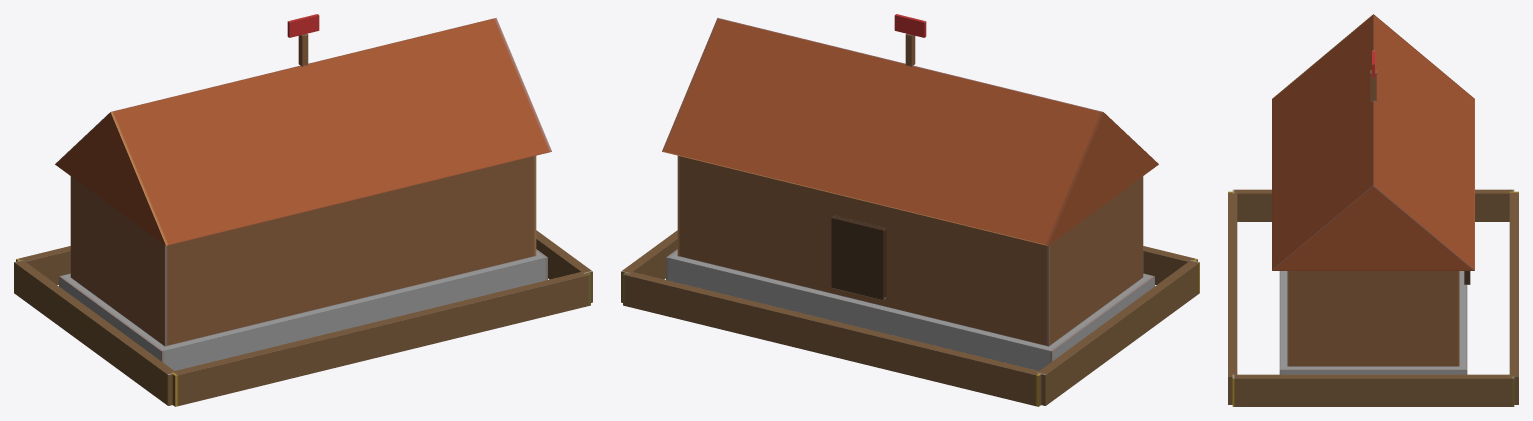
File: Barracks.fbx
3 renders of one model, left to right at view 1: azimuth 30°, elevation 25°; view 2: azimuth 150°, elevation 25°; view 3: azimuth 270°, elevation 25°, orthographic. The views are drawn at different scales.
Visible parts, largest first — view 1: Barracks; view 2: Barracks; view 3: Barracks.
Boxes of the visible parts, x1,y1,x2,y2 form: Barracks: [14, 14, 592, 406]; Barracks: [621, 14, 1199, 406]; Barracks: [1228, 14, 1518, 406].
Bounding box in the file's own units: 286 × 180 × 186.
1 material, 1 textured.
